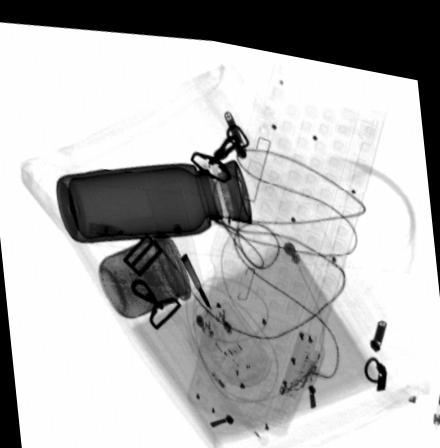Bullet: (180, 244, 212, 302)
